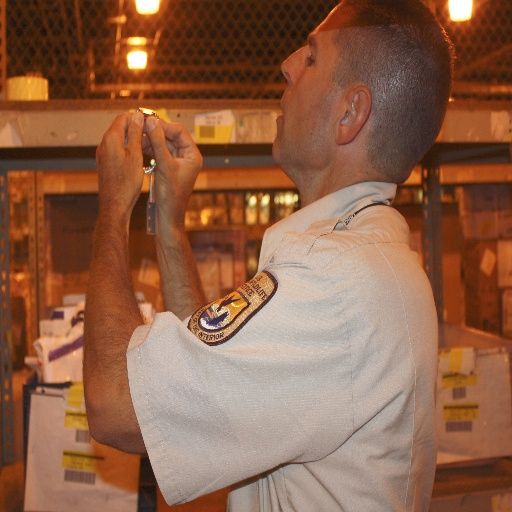hand: (90, 100, 160, 232), (144, 110, 204, 225)
